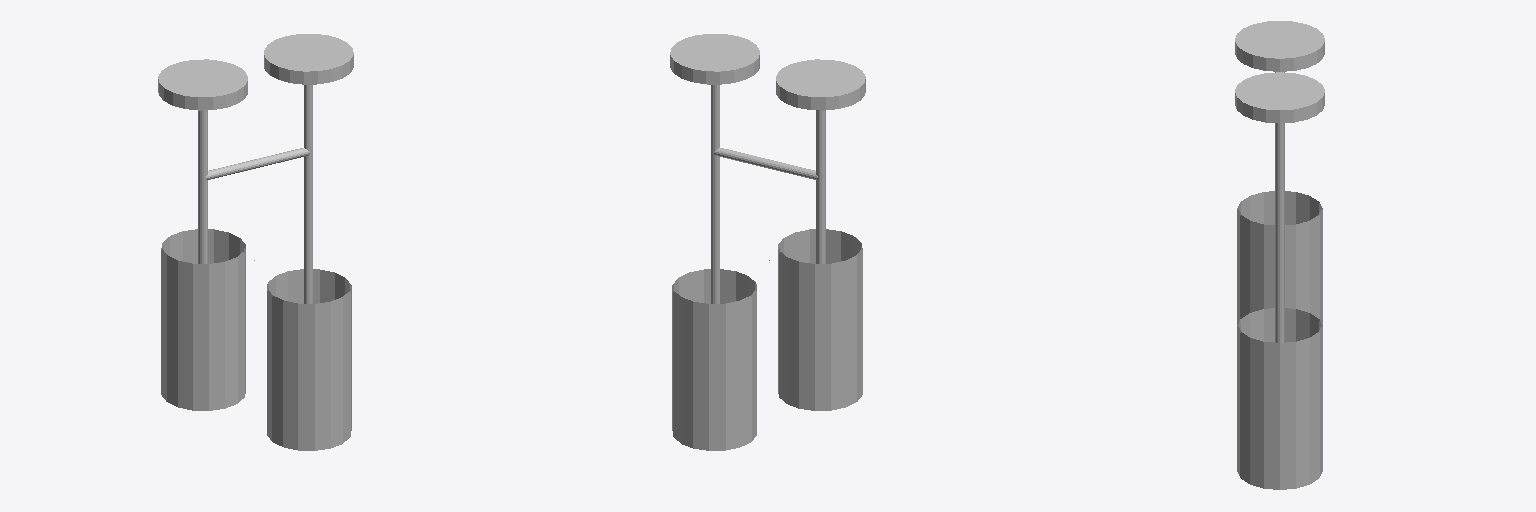
Rendered from lamp1.obj.
3 views of the same model, side by side, from view 1: azimuth 30°, elevation 25°; view 2: azimuth 150°, elevation 25°; view 3: azimuth 270°, elevation 25° (orthographic).
Visible parts, largest first — view 1: pCylinder12_polySurface2, pCylinder12_polySurface4, pCylinder12_polySurface11, pCylinder12_polySurface10, pCylinder12_polySurface5, pCylinder12_polySurface3, pCylinder12_polySurface7, polySurface1_pCylinder12, pCylinder12_polySurface9; view 2: pCylinder12_polySurface2, pCylinder12_polySurface4, pCylinder12_polySurface11, pCylinder12_polySurface10, pCylinder12_polySurface5, pCylinder12_polySurface3, pCylinder12_polySurface7, polySurface1_pCylinder12, pCylinder12_polySurface9; view 3: pCylinder12_polySurface4, pCylinder12_polySurface2, pCylinder12_polySurface10, pCylinder12_polySurface11, pCylinder12_polySurface7, pCylinder12_polySurface5, pCylinder12_polySurface3.
Boxes of the visible parts, box(x1,y1,x2,y2) form: pCylinder12_polySurface2: box(161, 238, 245, 410); pCylinder12_polySurface4: box(267, 281, 351, 449); pCylinder12_polySurface11: box(264, 34, 353, 84); pCylinder12_polySurface10: box(158, 59, 247, 110); pCylinder12_polySurface5: box(268, 269, 350, 450); pCylinder12_polySurface3: box(162, 229, 244, 410); pCylinder12_polySurface7: box(304, 85, 312, 303); polySurface1_pCylinder12: box(198, 110, 207, 263); pCylinder12_polySurface9: box(206, 148, 309, 179); pCylinder12_polySurface2: box(778, 238, 862, 410); pCylinder12_polySurface4: box(672, 281, 756, 449); pCylinder12_polySurface11: box(670, 34, 759, 84); pCylinder12_polySurface10: box(776, 59, 865, 110); pCylinder12_polySurface5: box(673, 269, 755, 450); pCylinder12_polySurface3: box(779, 229, 861, 410); pCylinder12_polySurface7: box(711, 85, 719, 303); polySurface1_pCylinder12: box(816, 110, 825, 263); pCylinder12_polySurface9: box(714, 148, 817, 179); pCylinder12_polySurface4: box(1237, 319, 1322, 488); pCylinder12_polySurface2: box(1237, 202, 1322, 325); pCylinder12_polySurface10: box(1235, 21, 1324, 71); pCylinder12_polySurface11: box(1235, 72, 1324, 123); pCylinder12_polySurface7: box(1275, 123, 1284, 342); pCylinder12_polySurface5: box(1238, 308, 1321, 489); pCylinder12_polySurface3: box(1238, 191, 1321, 226).
Bounding box in the file's own units: 931 × 1841 × 396.